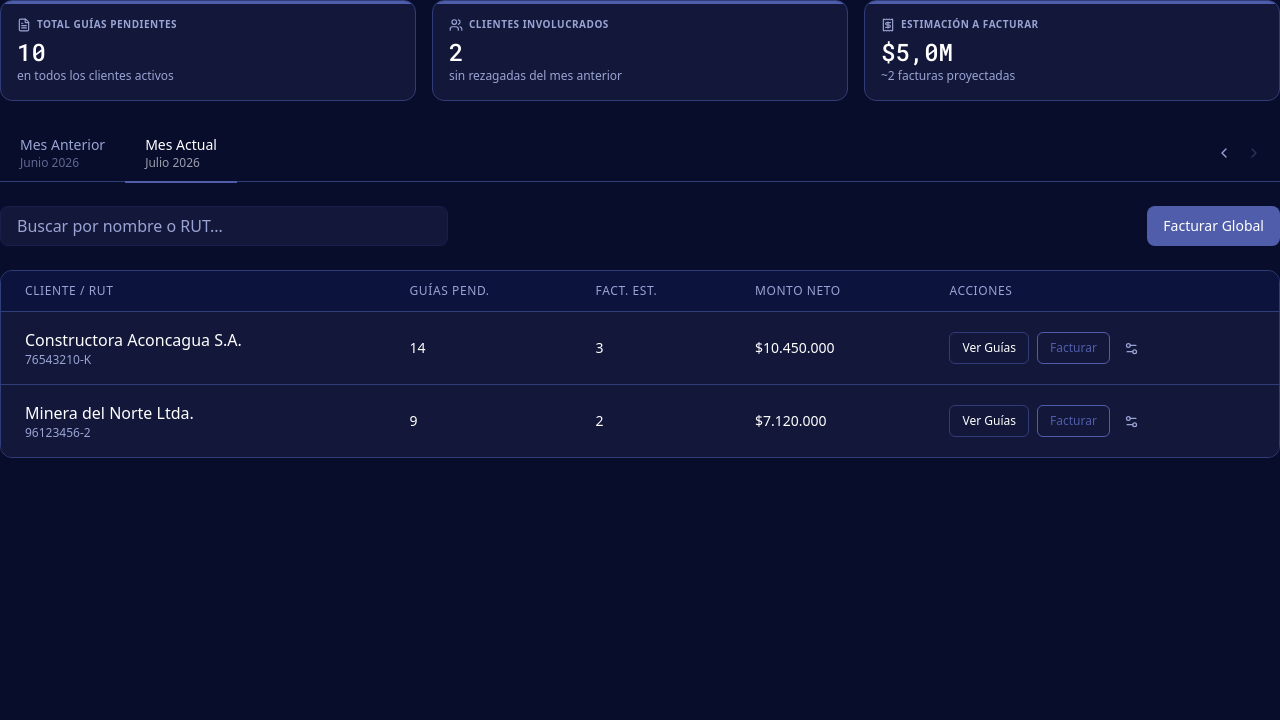
Test: Clientes page › click en ícono gestionar-regla abre popup con nombre del cliente
Expected: the text "Constructora Aconcagua S.A." is shown, [25,329,242,351]
Click the button with test id "gestionar-regla-76543210-K": [1131, 348] box [1118,334,1145,362]
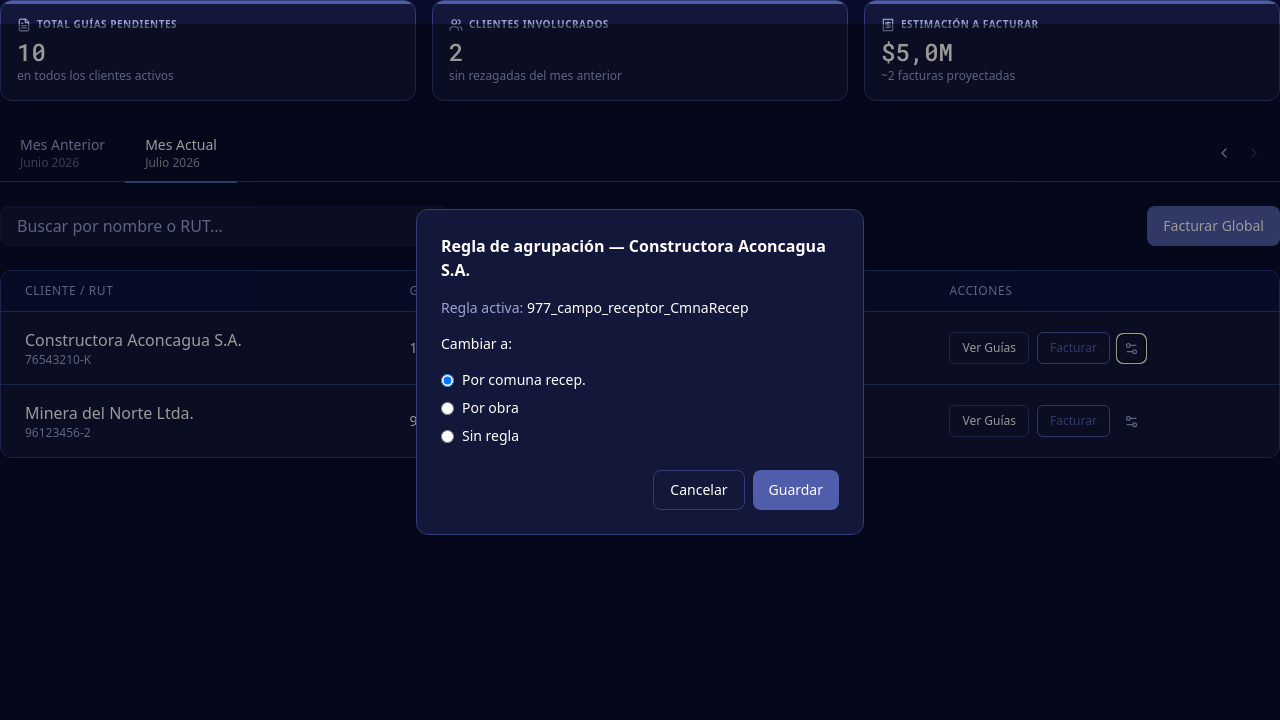
Expected: the dialog is shown
Expected: the dialog shows "Constructora Aconcagua S.A.", [441,235,826,281]
